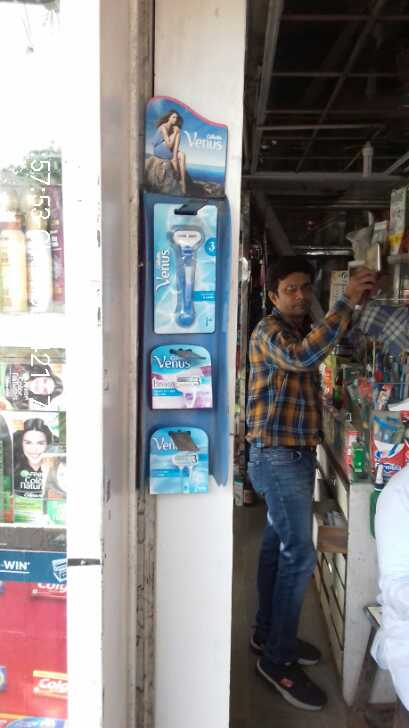venus: (148, 198, 223, 336), (136, 426, 217, 502), (156, 350, 217, 412)
